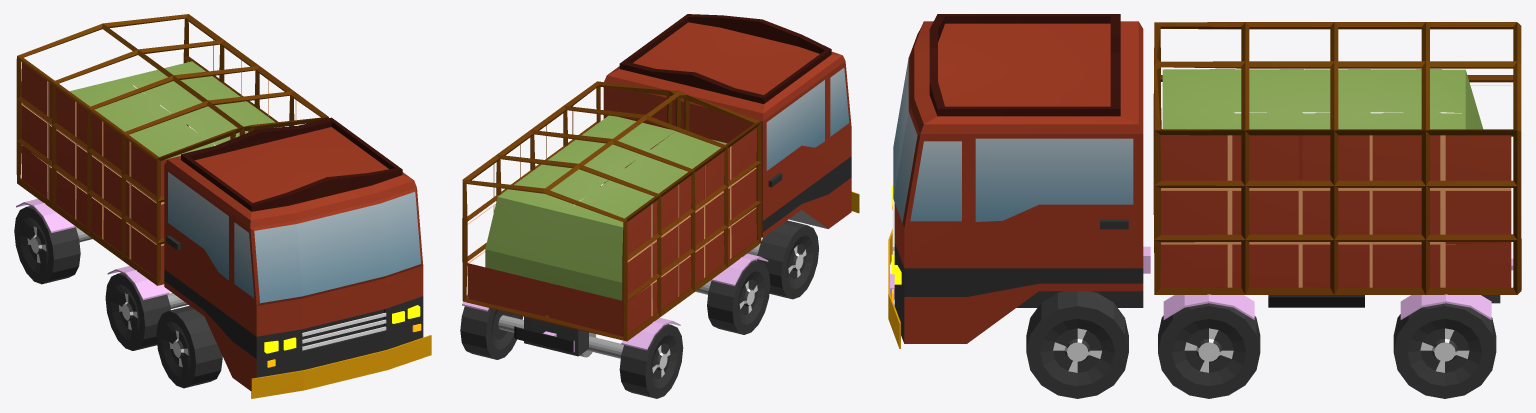
Rendered from try truck.glb.
The picture shows the model from 3 angles, left to right: view 1: azimuth 30°, elevation 25°; view 2: azimuth 150°, elevation 25°; view 3: azimuth 270°, elevation 25°; orthographic projection. The views are drawn at different scales.
Parts seen in each view (by area): view 1: Jack Saturn_MC2_Simple Truck.001; view 2: Jack Saturn_MC2_Simple Truck.001; view 3: Jack Saturn_MC2_Simple Truck.001.
Boxes of the visible parts, bbox=[...] form: Jack Saturn_MC2_Simple Truck.001: bbox=[14, 14, 431, 398]; Jack Saturn_MC2_Simple Truck.001: bbox=[460, 14, 859, 398]; Jack Saturn_MC2_Simple Truck.001: bbox=[888, 14, 1521, 398].
Bounding box in the file's own units: 2.27 × 2.52 × 4.99.
1 material, 1 textured.
